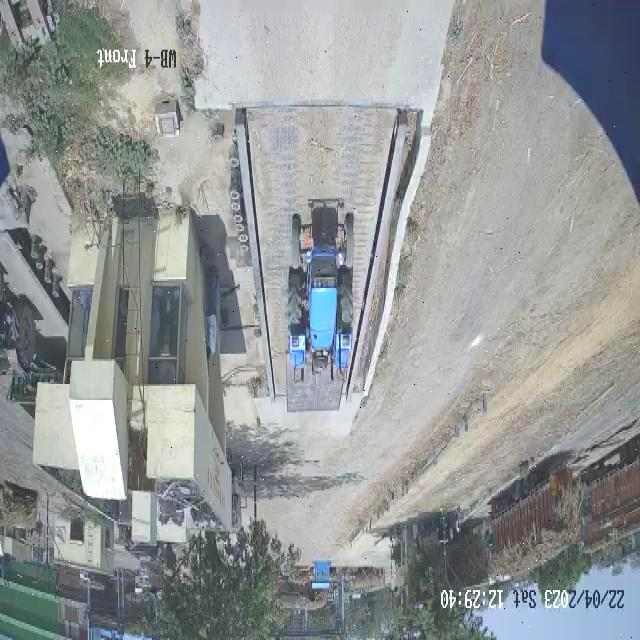Tratores - v5 YOLO V8L 2024-11-13: (284, 202, 356, 390)
